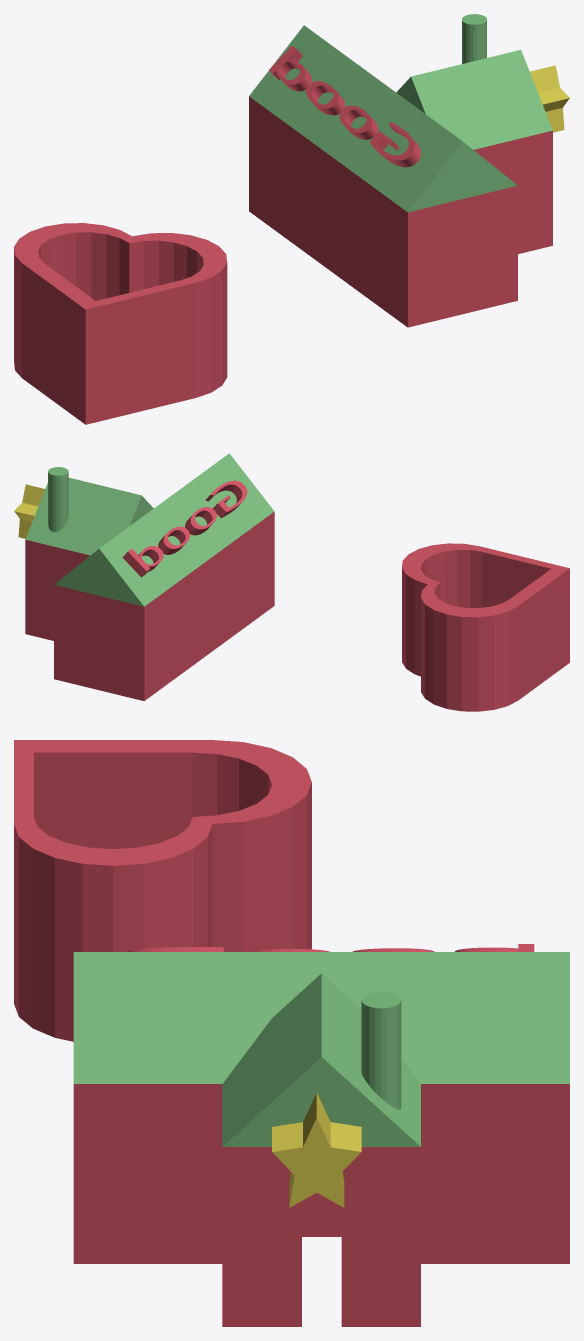
File: AliceTree.glb
The picture shows the model from 3 angles, top to bottom: view 1: azimuth 30°, elevation 25°; view 2: azimuth 150°, elevation 25°; view 3: azimuth 270°, elevation 25°; orthographic projection. The views are drawn at different scales.
Parts seen in each view (by area): view 1: Mesh_Mesh_head_geo.001_lambert2SG.001; view 2: Mesh_Mesh_head_geo.001_lambert2SG.001; view 3: Mesh_Mesh_head_geo.001_lambert2SG.001.
Part boxes in pixels (x1=…): Mesh_Mesh_head_geo.001_lambert2SG.001: x1=14, y1=14, x2=569, y2=424; Mesh_Mesh_head_geo.001_lambert2SG.001: x1=14, y1=453, x2=569, y2=711; Mesh_Mesh_head_geo.001_lambert2SG.001: x1=14, y1=740, x2=569, y2=1326.
Bounding box in the file's own units: 103 × 34 × 56.
